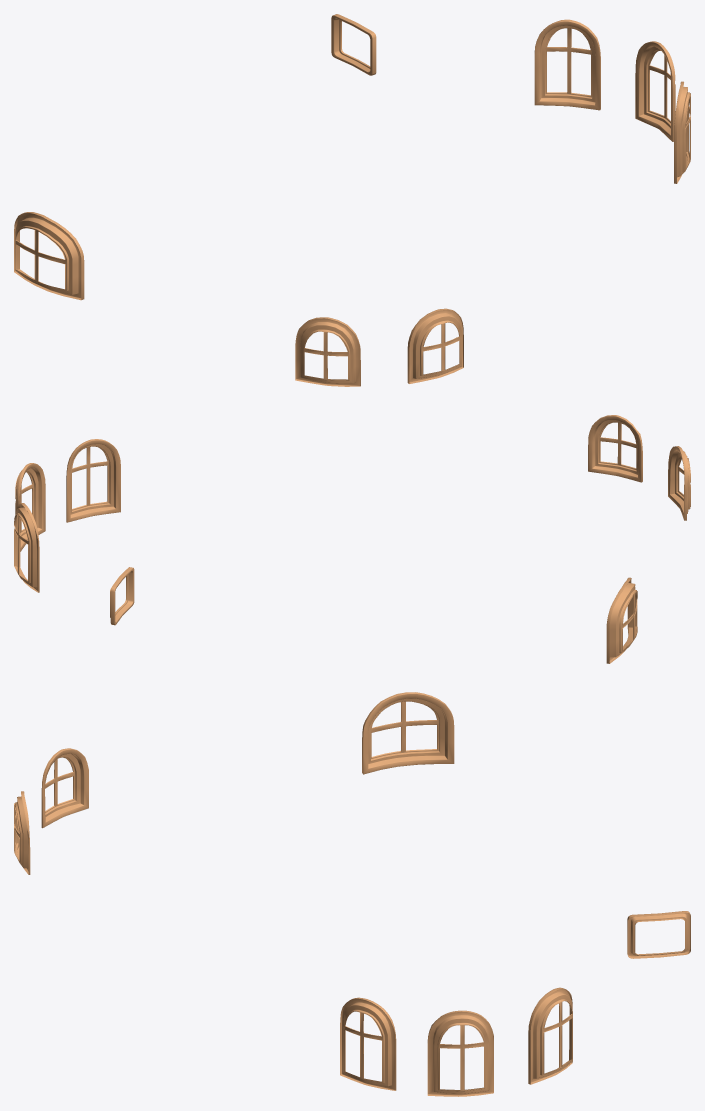
The model's file is froghome-windows.fbx.
The picture shows the model from 3 angles, top to bottom: view 1: azimuth 30°, elevation 25°; view 2: azimuth 150°, elevation 25°; view 3: azimuth 270°, elevation 25°; orthographic projection. The views are drawn at different scales.
Parts seen in each view (by area): view 1: windows; view 2: windows; view 3: windows.
Part boxes in pixels (x1,y1,x2,y2): windows: (14,14,690,386); windows: (14,415,690,663); windows: (14,692,690,1096).
Size of the model in its own units: 2183 by 284 by 1936.
